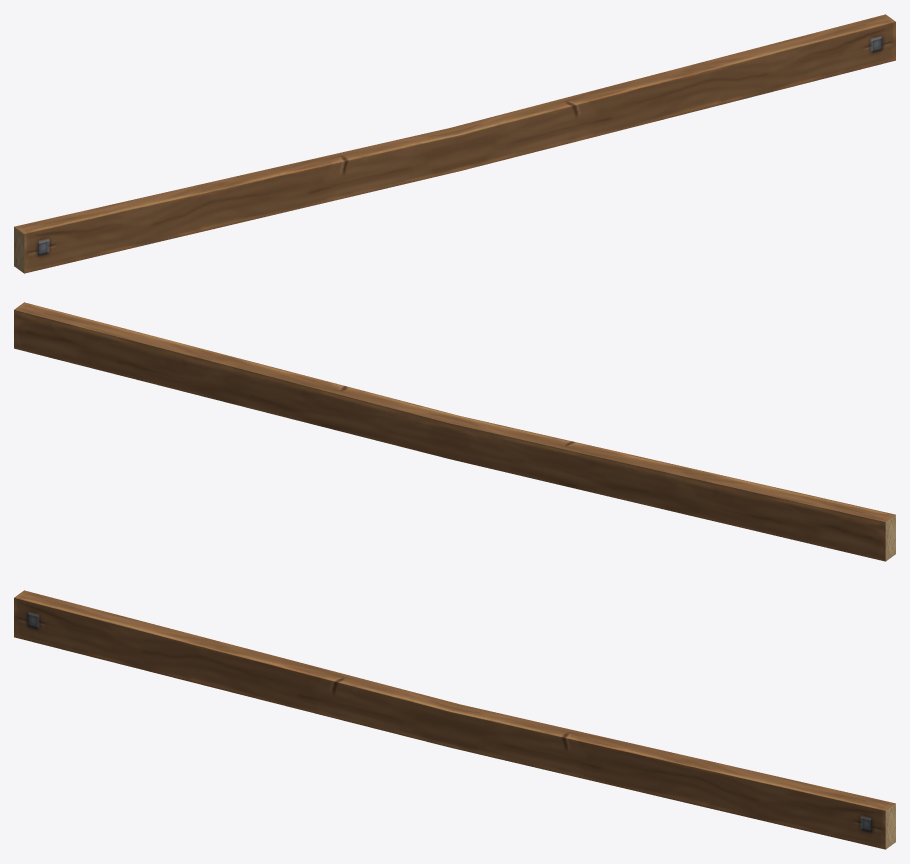
3 renders of one model, top to bottom at view 1: azimuth 30°, elevation 25°; view 2: azimuth 150°, elevation 25°; view 3: azimuth 330°, elevation 25°, orthographic.
Visible parts, largest first — view 1: part_09a:Mesh; view 2: part_09a:Mesh; view 3: part_09a:Mesh.
Part boxes in pixels (x1,y1,x2,y2): part_09a:Mesh: (14,14,895,273); part_09a:Mesh: (14,302,895,561); part_09a:Mesh: (14,590,895,849).
Bounding box in the file's own units: 6.98 × 0.3318 × 0.1422.
